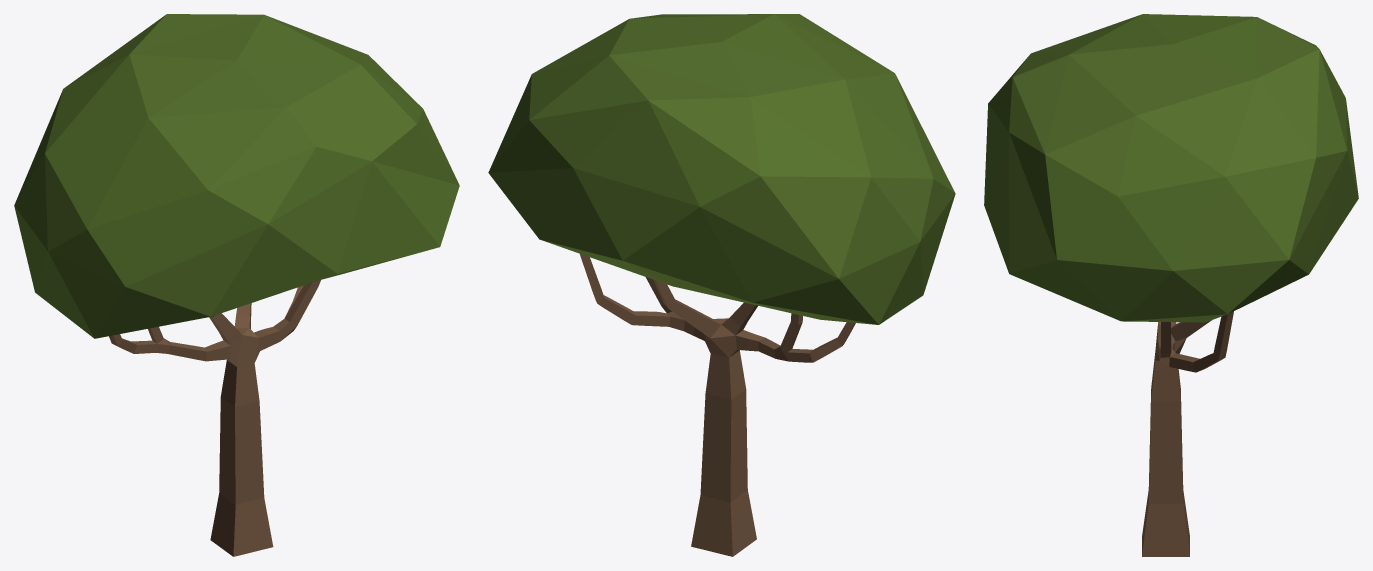
The model's file is AppleTree1.fbx.
The picture shows the model from 3 angles, left to right: view 1: azimuth 30°, elevation 25°; view 2: azimuth 150°, elevation 25°; view 3: azimuth 270°, elevation 25°; orthographic projection. The views are drawn at different scales.
Parts seen in each view (by area): view 1: AppleTree1Foliage, AppleTree1; view 2: AppleTree1Foliage, AppleTree1; view 3: AppleTree1Foliage, AppleTree1.
Boxes of the visible parts, <box> form: AppleTree1Foliage: <box>14,14,459,338</box>; AppleTree1: <box>109,280,320,556</box>; AppleTree1Foliage: <box>488,14,955,324</box>; AppleTree1: <box>580,254,855,556</box>; AppleTree1Foliage: <box>984,14,1358,322</box>; AppleTree1: <box>1142,311,1233,556</box>.
Bounding box in the file's own units: 5.07 × 6.17 × 4.17.
